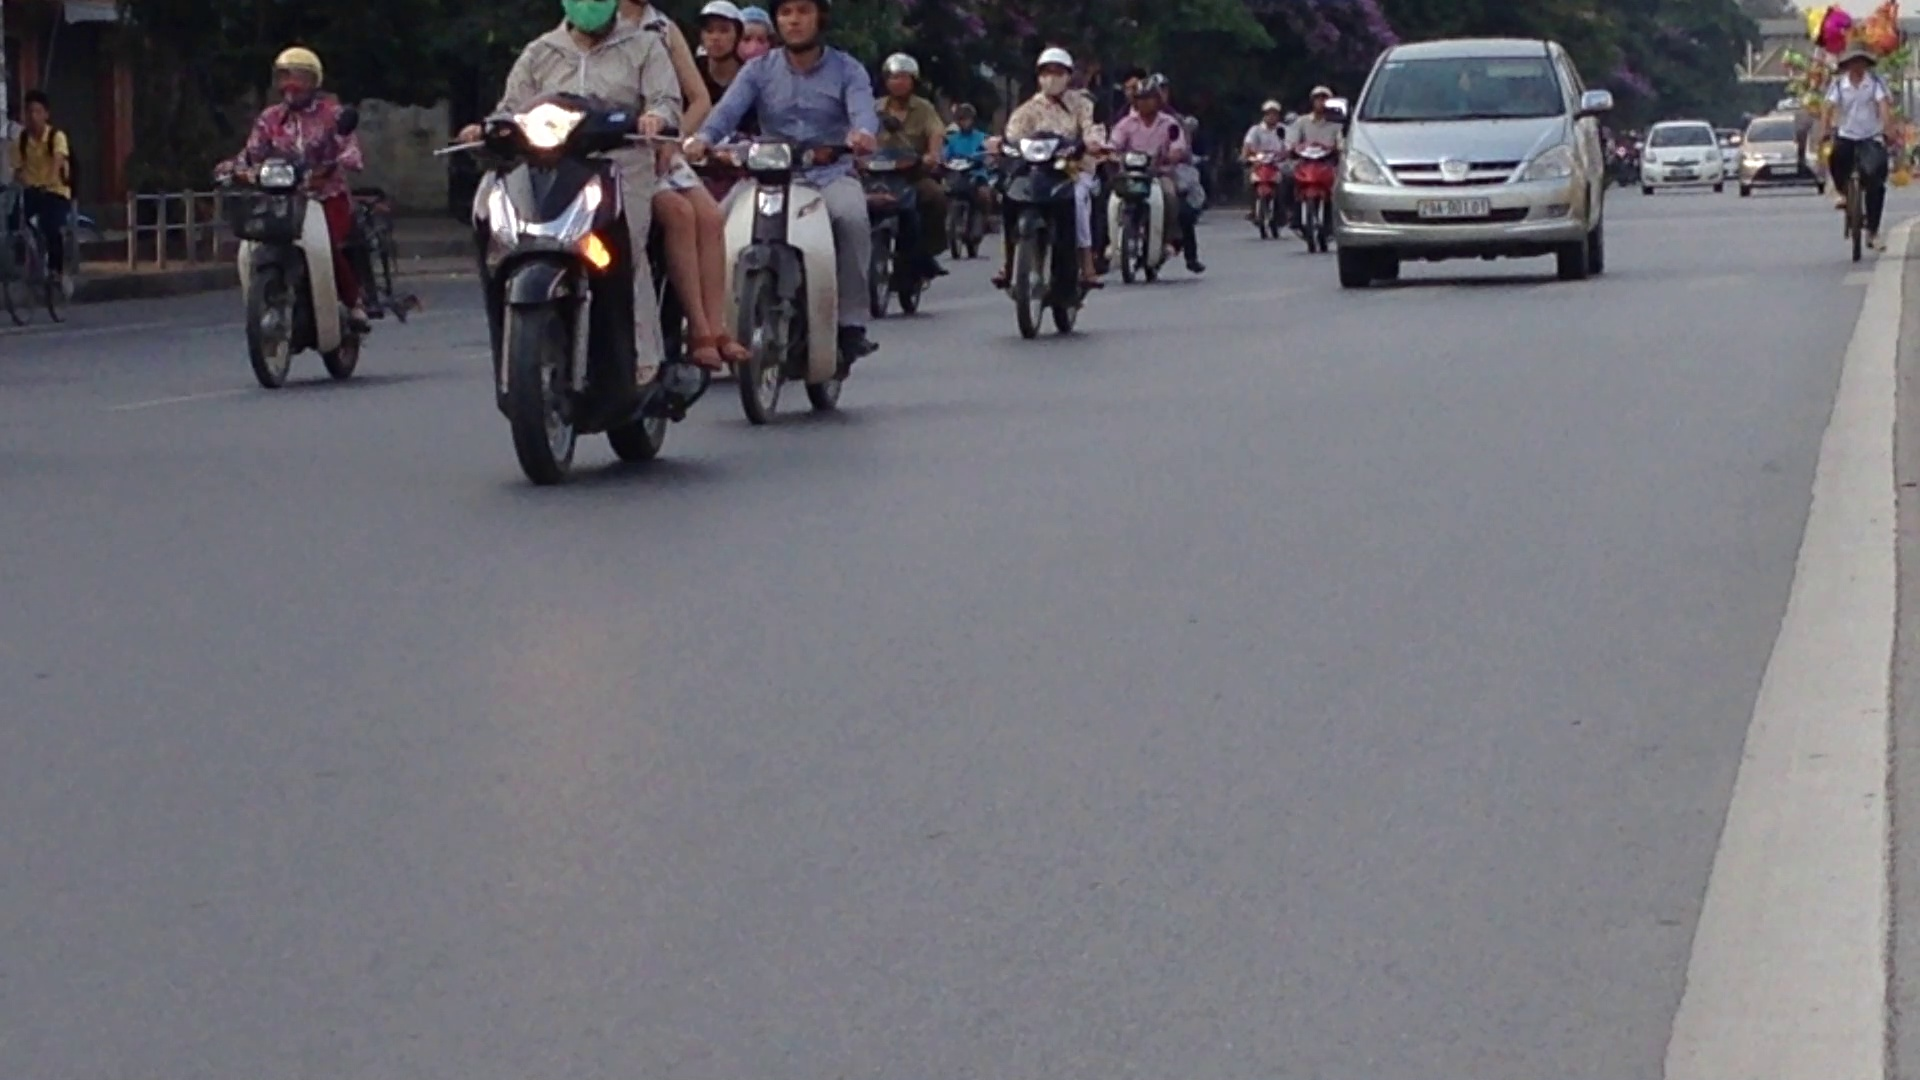vehicle-plate: (1414, 194, 1492, 219)
